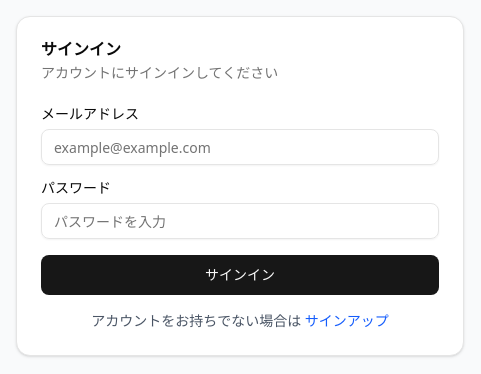
Test: SignInPage › should show loading state when submitting
Type "test@example.com" into the field labelled "メールアドレス" at (240, 147), box x1=41 y1=129 x2=439 y2=165
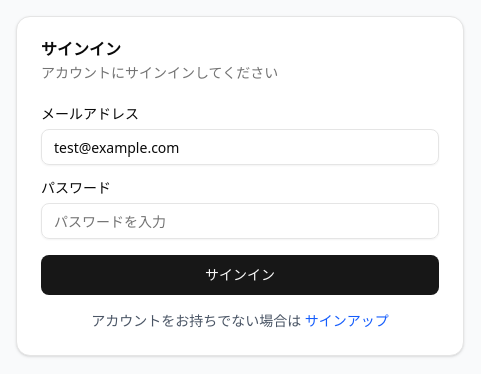
Type "password123" into the password field labelled "パスワード" at (240, 221), box x1=41 y1=203 x2=439 y2=239
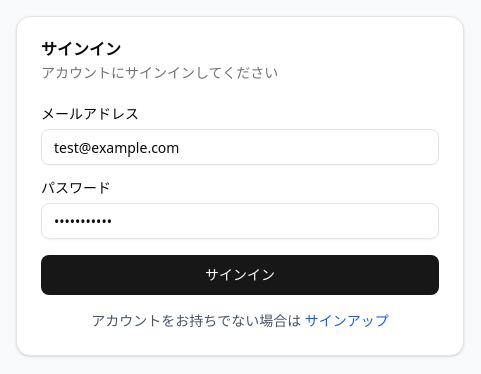
Click the button "サインイン" at (240, 275), box x1=41 y1=255 x2=439 y2=295
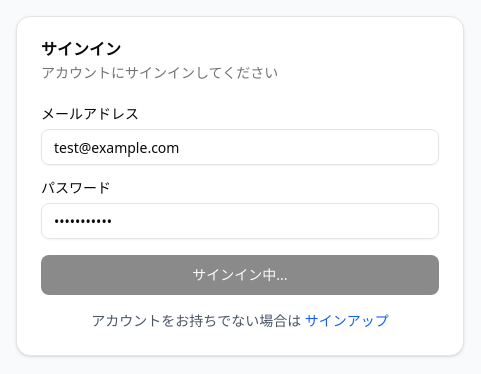
expect the button "サインイン中..." is shown: met, box x1=41 y1=255 x2=439 y2=295
